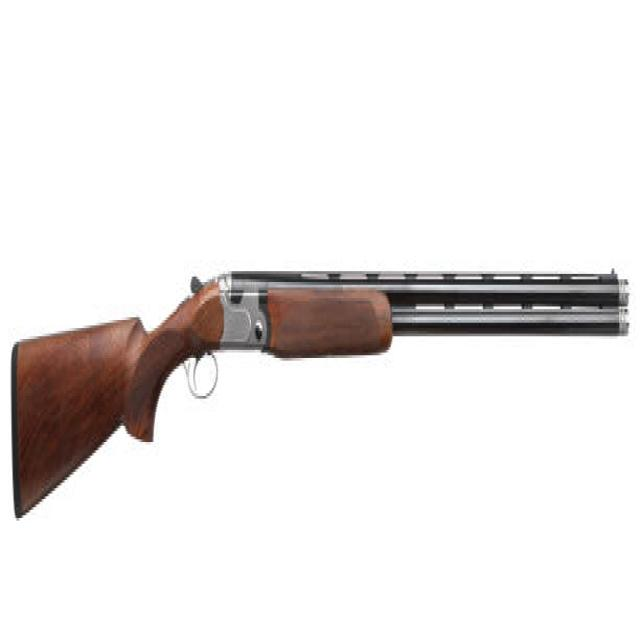rifle: (7, 209, 640, 536)
